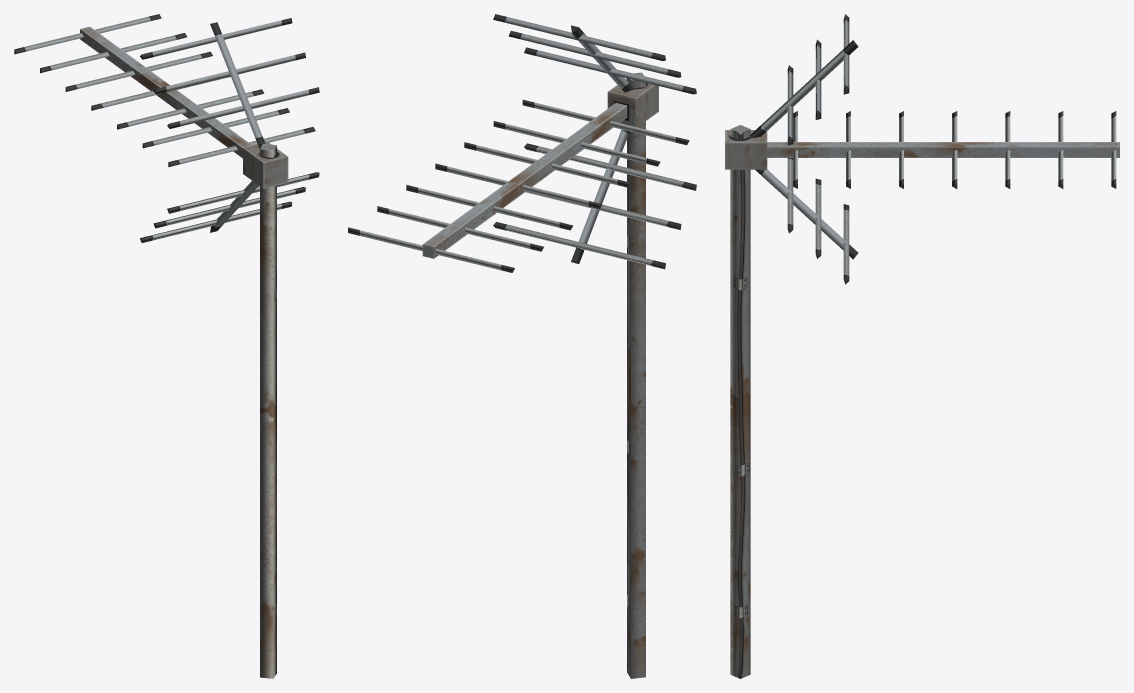
Rendered from antenna01.fbx.
The picture shows the model from 3 angles, left to right: view 1: azimuth 30°, elevation 25°; view 2: azimuth 150°, elevation 25°; view 3: azimuth 270°, elevation 25°; orthographic projection. The views are drawn at different scales.
Visible parts, largest first — view 1: antenna01; view 2: antenna01; view 3: antenna01.
Part boxes in pixels (left/top/right/bottom): antenna01: left=14, top=14, right=319, bottom=678; antenna01: left=348, top=14, right=696, bottom=678; antenna01: left=725, top=14, right=1119, bottom=678.
Bounding box in the file's own units: 89.11 × 348 × 197.
